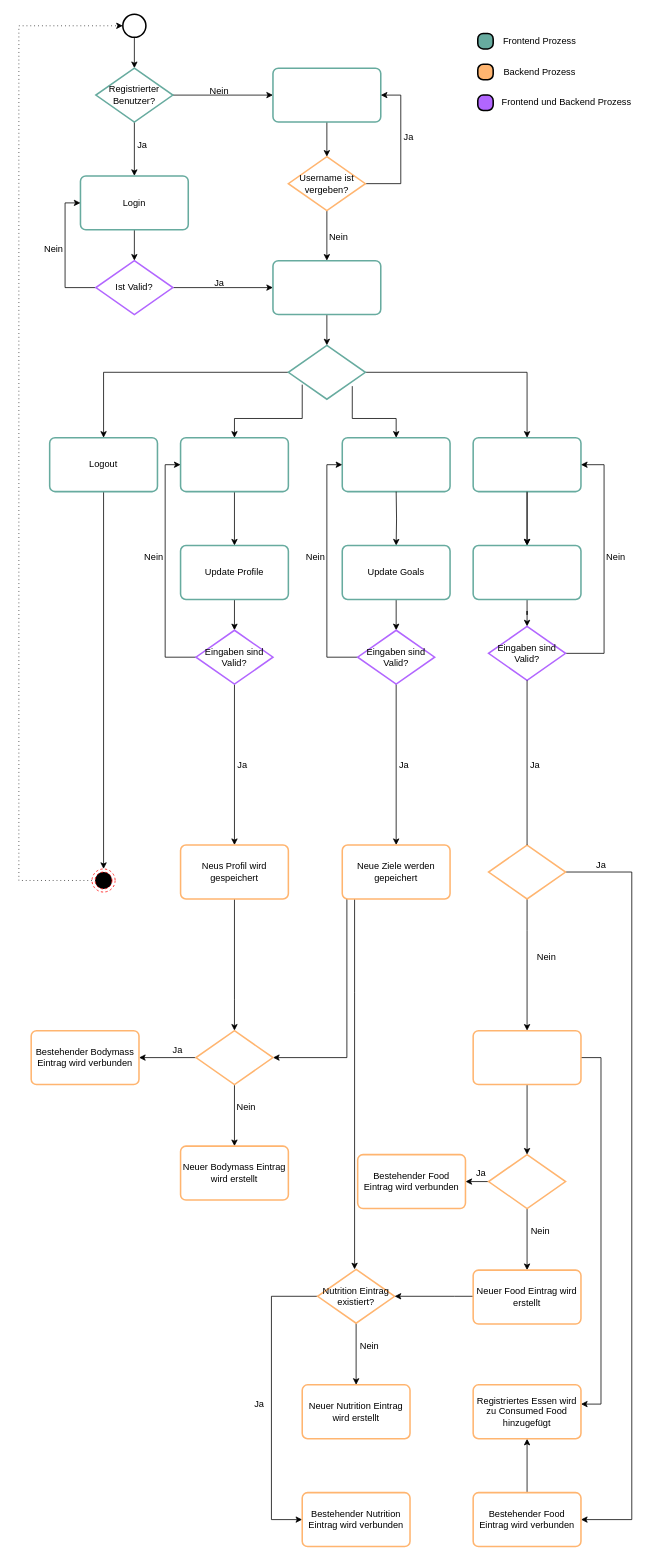
The diagram is 653 pixels wide and 1560 high, and some of its shapes have lost their labels. Here are the shapes that lost their labels. From the top down, the box of each, then its label:
(272, 67, 381, 122): Registrieren
(272, 259, 381, 315): Landing Page wird angezeigt
(287, 344, 366, 400): Benutzeraktion
(179, 437, 289, 492): Profile Page
(341, 437, 450, 492): Goal Page
(472, 437, 581, 492): Food Page
(472, 544, 581, 600): Add Food
(487, 844, 566, 899): Food ist registriert?
(195, 1029, 273, 1085): Bodymass Eintrag existiert?
(472, 1029, 581, 1085): Neues Essen wird für den User registriert
(487, 1153, 566, 1209): Food Eintrag existiert?
